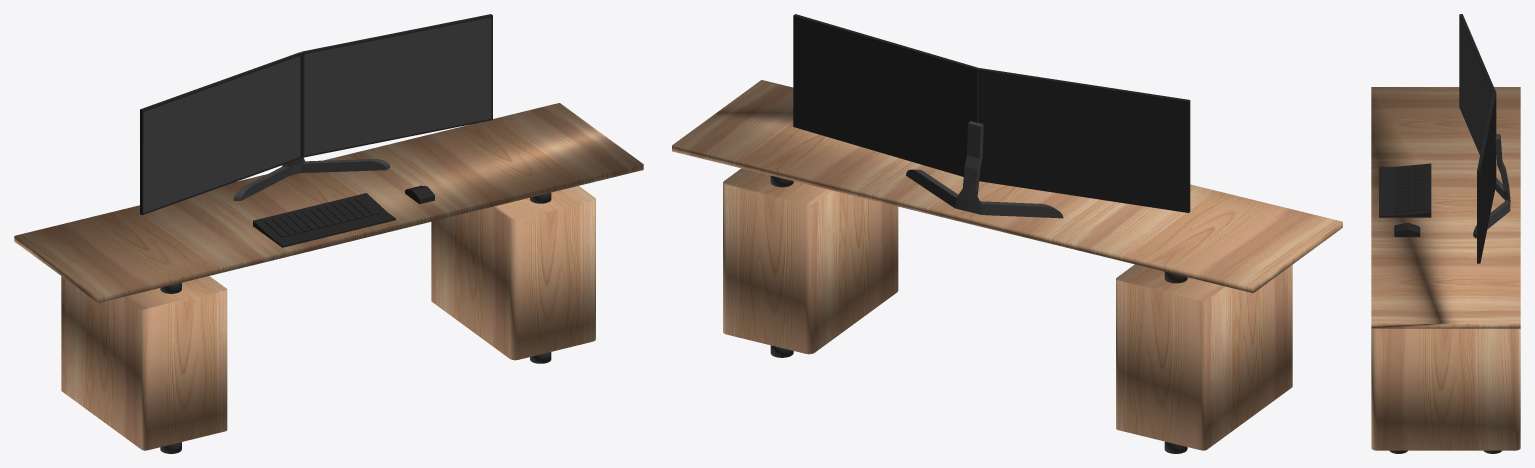
3 renders of one model, left to right at view 1: azimuth 30°, elevation 25°; view 2: azimuth 150°, elevation 25°; view 3: azimuth 270°, elevation 25°, orthographic. The views are drawn at different scales.
Visible parts, largest first — view 1: Mesa, Monitor, Cube; view 2: Mesa, Monitor; view 3: Mesa, Monitor, Cube, Cube.001.
Boxes of the visible parts, left/top/right/bottom form: Mesa: left=14, top=103, right=643, bottom=453; Monitor: left=140, top=14, right=492, bottom=215; Cube: left=253, top=193, right=395, bottom=247; Mesa: left=672, top=80, right=1342, bottom=453; Monitor: left=793, top=14, right=1190, bottom=218; Mesa: left=1371, top=87, right=1520, bottom=453; Monitor: left=1459, top=14, right=1510, bottom=263; Cube: left=1379, top=163, right=1431, bottom=217; Cube.001: left=1394, top=222, right=1420, bottom=236.
Bounding box in the file's own units: 3 × 1.64 × 0.8.
Materials: 4 (1 with a texture image).
